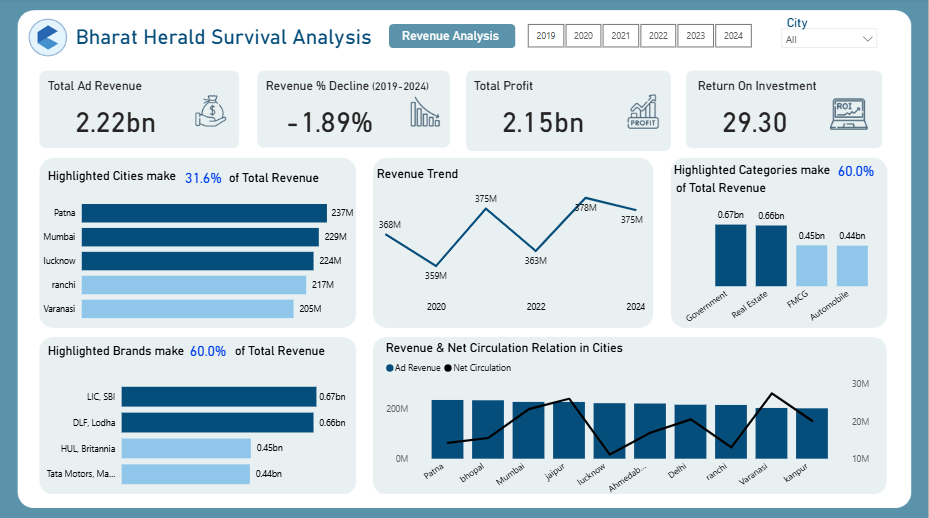

What the dashboard file says about the page in this screenshot:
{"tool":"powerbi","page":{"name":"Revenue Analysis","canvas":[1280,720],"ordinal":1},"visuals":[{"type":"card","fields":{"Values":["Sum(bharatherald fact_ad_revenue.ad_revenue_in_inr)"]},"box":[63.2,127.7,197.4,78.7],"z":0},{"type":"clusteredColumnChart","title":"Revenue by Ad Categories","fields":{"Y":["Sum(bharatherald fact_ad_revenue.ad_revenue_in_inr)"],"Category":["bharatherald dim_ad_category.standard_ad_category"]},"box":[935.9,275.3,290.4,184.4],"z":1000},{"type":"card","fields":{"Values":["bharatherald fact_ad_revenue.Revenue % decline"]},"box":[363.9,127.7,184.5,78.7],"z":2000},{"type":"card","fields":{"Values":["Sum(bharatherald profit_table.profit)"]},"box":[650.3,127.7,201.3,78.7],"z":3000},{"type":"slicer","fields":{"Values":["dim_year.year"]},"box":[703.6,28.6,357.5,45.8],"z":4000},{"type":"card","fields":{"Values":["bharatherald profit_table.ROI"]},"box":[951,127.7,180.6,78.7],"z":5000},{"type":"lineChart","title":"Revenue Trend","fields":{"Category":["bharatherald profit_table.years"],"Y":["Sum(bharatherald profit_table.ad_revenue)"]},"box":[516.1,231,379.4,211.6],"z":6000},{"type":"clusteredBarChart","title":"Revenue by Brands","fields":{"Category":["bharatherald dim_ad_category.example_brands"],"Y":["Sum(bharatherald fact_ad_revenue.ad_revenue_in_inr)"]},"box":[48.2,507.9,434.9,181.7],"z":7000},{"type":"clusteredBarChart","title":"Top 5 Revenue Generating Cities","fields":{"Category":["bharatherald dim_city.city"],"Y":["Sum(bharatherald fact_ad_revenue.ad_revenue_in_inr)"]},"box":[52.3,257.4,441.8,202.3],"z":8000},{"type":"lineClusteredColumnComboChart","title":"Revenue & Net Circulation Relation in Cities","fields":{"Category":["bharatherald dim_city.city"],"Y":["Sum(bharatherald fact_ad_revenue.ad_revenue_in_inr)"],"Y2":["Sum(bharatherald fact_print_sales.Net_Circulation)"]},"box":[528.5,470.7,675.8,224.3],"z":9000},{"type":"textbox","box":[63.2,105.8,174.2,43.9],"z":10000},{"type":"textbox","box":[363.4,106,261.5,44],"z":11000},{"type":"textbox","box":[650.3,105.8,174.2,43.9],"z":12000},{"type":"textbox","box":[957.4,105.8,174.2,43.9],"z":13000},{"type":"textbox","box":[101.8,31.7,437.7,44],"z":14000},{"type":"textbox","box":[533.5,37.2,177.3,35.8],"z":15000},{"type":"card","fields":{"Values":["bharatherald fact_ad_revenue.Top2 Revenue% categories"]},"box":[1135.6,213.1,90.1,50.1],"z":16000},{"type":"textbox","box":[924.9,221.6,239.5,39.9],"z":17000},{"type":"textbox","box":[320.7,468,134.9,39.9],"z":18000},{"type":"textbox","box":[63.3,470.7,224.3,39.9],"z":19000},{"type":"card","fields":{"Values":["bharatherald fact_ad_revenue.Top2 Revenue% categories"]},"box":[243.1,464.8,90.1,42.9],"z":20000},{"type":"slicer","fields":{"Values":["bharatherald dim_city.city"]},"box":[1068.3,31.5,151.6,44.3],"z":21000},{"type":"textbox","box":[1079.8,18.6,47.2,35.8],"z":22000},{"type":"card","fields":{"Values":["bharatherald fact_ad_revenue.Top3 Revenue% cities"]},"box":[243.1,224.5,77.2,47.2],"z":23000},{"type":"textbox","box":[62.9,230.3,197.4,31.5],"z":24000},{"type":"textbox","box":[311.8,230.3,154.5,37.2],"z":25000},{"type":"textbox","box":[927.7,243.6,178.9,37.2],"z":26000}]}

Visuals, with their boxes in screenshot pixels (x1, y1, x2, y2), scaled from the page's 1280x720 canvas onto the 929x518 screenshot:
card - Sum(bharatherald fact_ad_revenue.ad_revenue_in_inr): [46,92,189,148]
"Revenue by Ad Categories" clusteredColumnChart: [679,198,890,331]
card - bharatherald fact_ad_revenue.Revenue % decline: [264,92,398,148]
card - Sum(bharatherald profit_table.profit): [472,92,618,148]
slicer - dim_year.year: [511,21,770,54]
card - bharatherald profit_table.ROI: [690,92,821,148]
"Revenue Trend" lineChart: [375,166,650,318]
"Revenue by Brands" clusteredBarChart: [35,365,351,496]
"Top 5 Revenue Generating Cities" clusteredBarChart: [38,185,359,331]
"Revenue & Net Circulation Relation in Cities" lineClusteredColumnComboChart: [384,339,874,500]
textbox: [46,76,172,108]
textbox: [264,76,454,108]
textbox: [472,76,598,108]
textbox: [695,76,821,108]
textbox: [74,23,392,54]
textbox: [387,27,516,53]
card - bharatherald fact_ad_revenue.Top2 Revenue% categories: [824,153,890,189]
textbox: [671,159,845,188]
textbox: [233,337,331,365]
textbox: [46,339,209,367]
card - bharatherald fact_ad_revenue.Top2 Revenue% categories: [176,334,242,365]
slicer - bharatherald dim_city.city: [775,23,885,55]
textbox: [784,13,818,39]
card - bharatherald fact_ad_revenue.Top3 Revenue% cities: [176,162,232,195]
textbox: [46,166,189,188]
textbox: [226,166,338,192]
textbox: [673,175,803,202]
